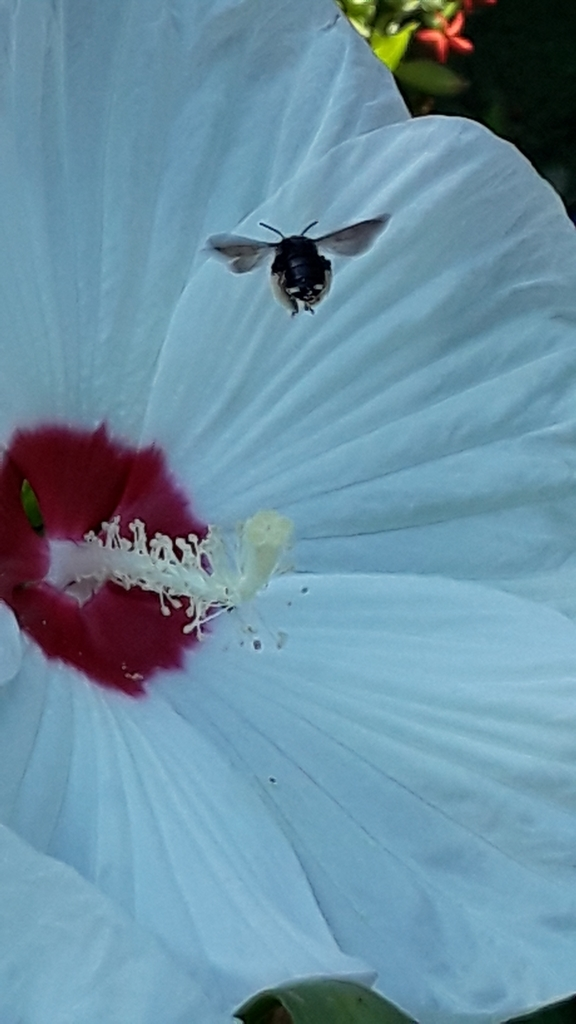not_bumblebee: (205, 212, 392, 317)
